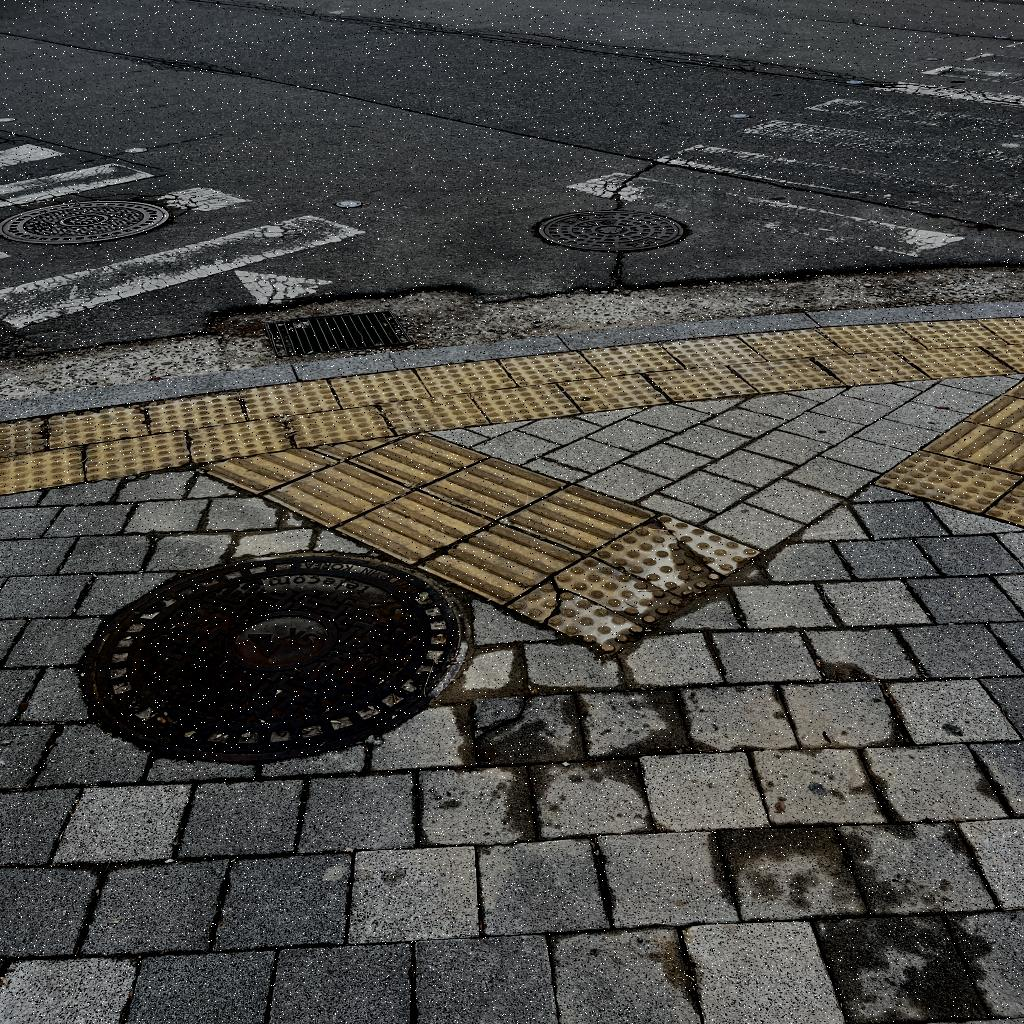Stop block broken: (507, 535, 691, 676), (588, 495, 760, 618)
Straight block normal: (417, 503, 579, 624), (336, 465, 491, 586), (501, 466, 656, 570), (263, 438, 411, 546), (422, 436, 567, 539)
